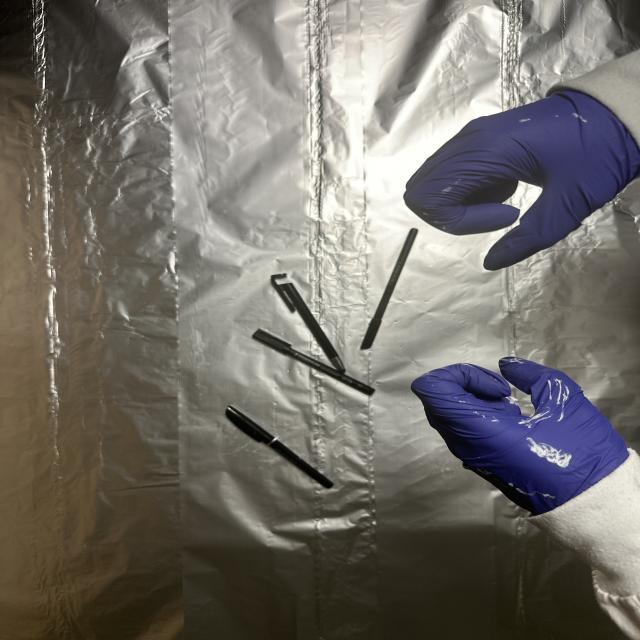gloves_contaminated: (405, 93, 640, 270), (412, 358, 625, 515)
